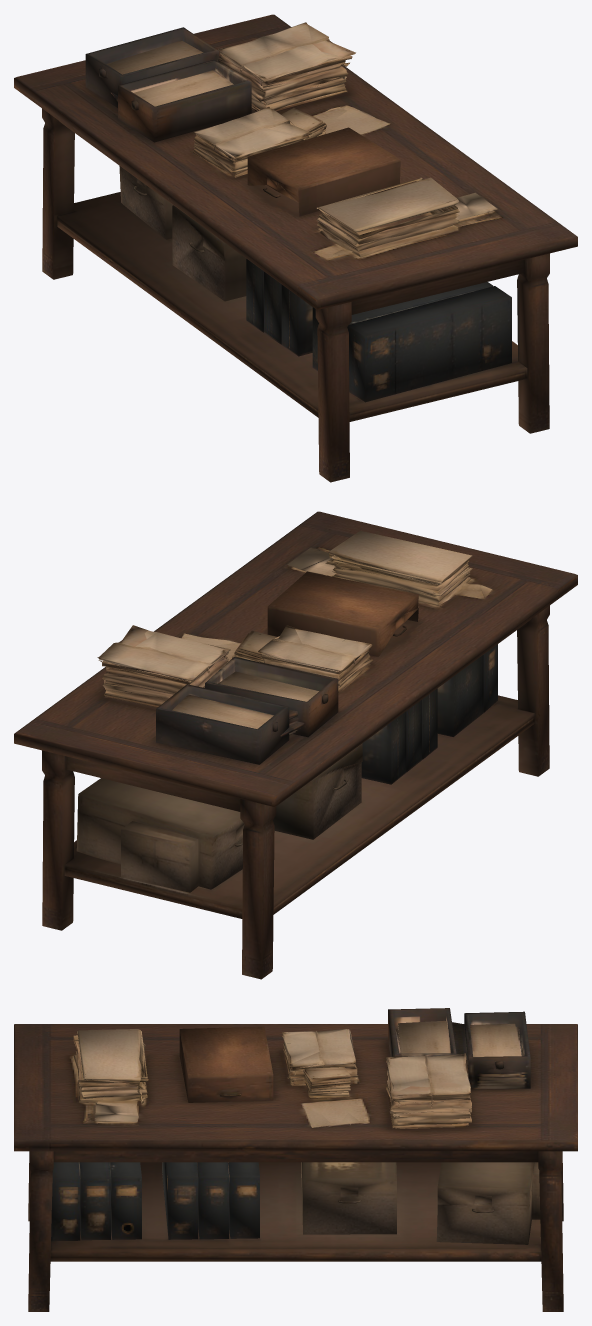
The picture shows the model from 3 angles, top to bottom: view 1: azimuth 30°, elevation 25°; view 2: azimuth 150°, elevation 25°; view 3: azimuth 270°, elevation 25°; orthographic projection. The views are drawn at different scales.
Parts seen in each view (by area): view 1: tripo_node_06c28afe-31a9-493d-9b2f-fcc901f81007; view 2: tripo_node_06c28afe-31a9-493d-9b2f-fcc901f81007; view 3: tripo_node_06c28afe-31a9-493d-9b2f-fcc901f81007.
Boxes of the visible parts, <box> form: tripo_node_06c28afe-31a9-493d-9b2f-fcc901f81007: <box>14,14,577,482</box>; tripo_node_06c28afe-31a9-493d-9b2f-fcc901f81007: <box>14,511,577,979</box>; tripo_node_06c28afe-31a9-493d-9b2f-fcc901f81007: <box>14,1008,577,1311</box>.
Bounding box in the file's own units: 0.4941 × 0.4238 × 0.998.
1 material, 1 textured.
